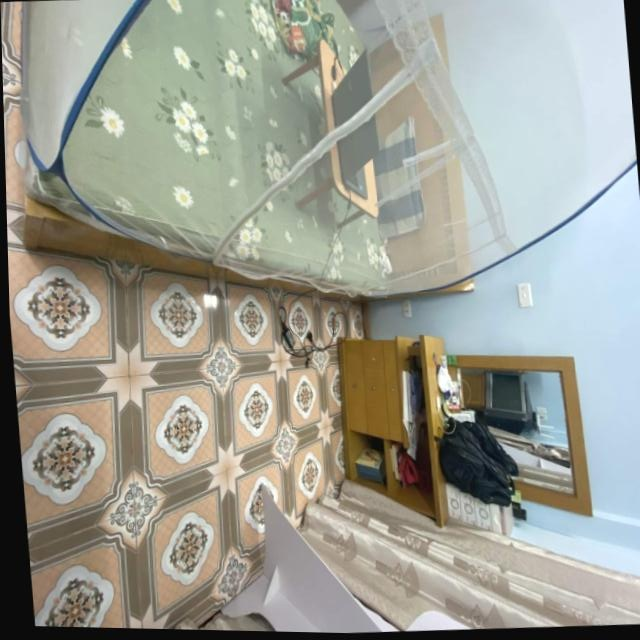outlet: (403, 300, 413, 318)
